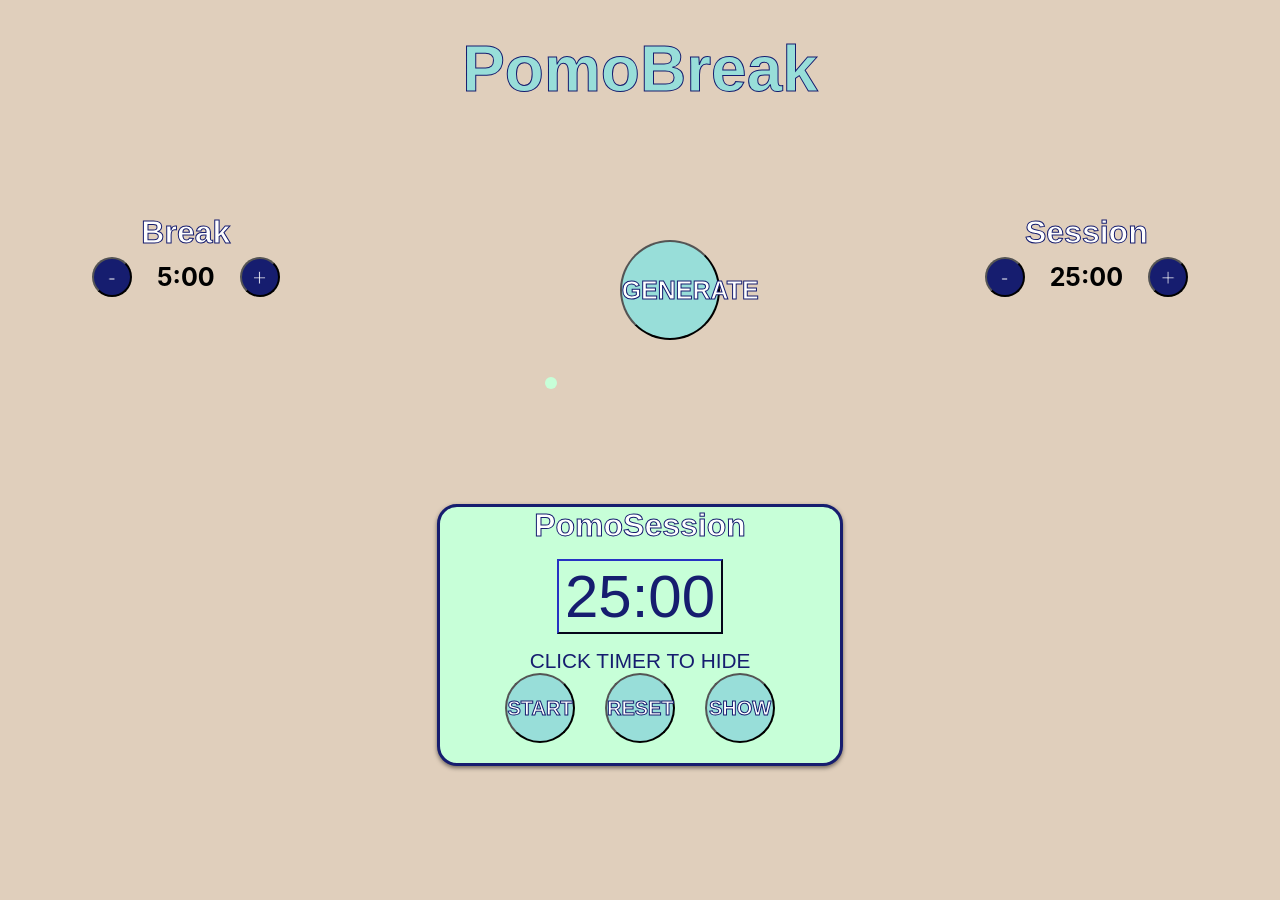
Test: Timer Test: Minutes Decrement after 60 seconds
This screenshot has width=1280, height=900.
Click the button with id "start-stop".
click(540, 708)  # box [505,673,575,743]
Wait 60000 ms
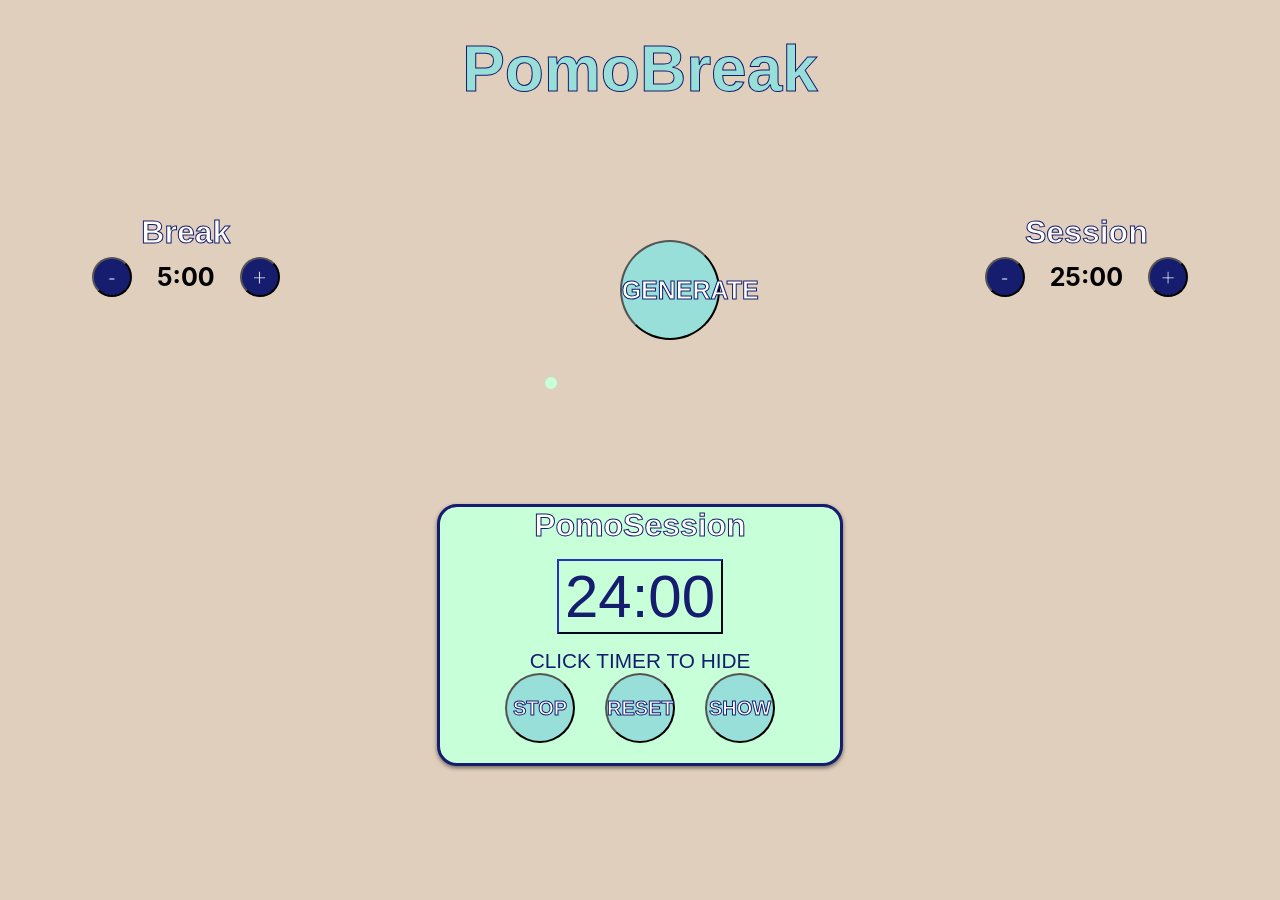
Expected: the button with id "time-left" reads "24:00", [557,559,723,634]
